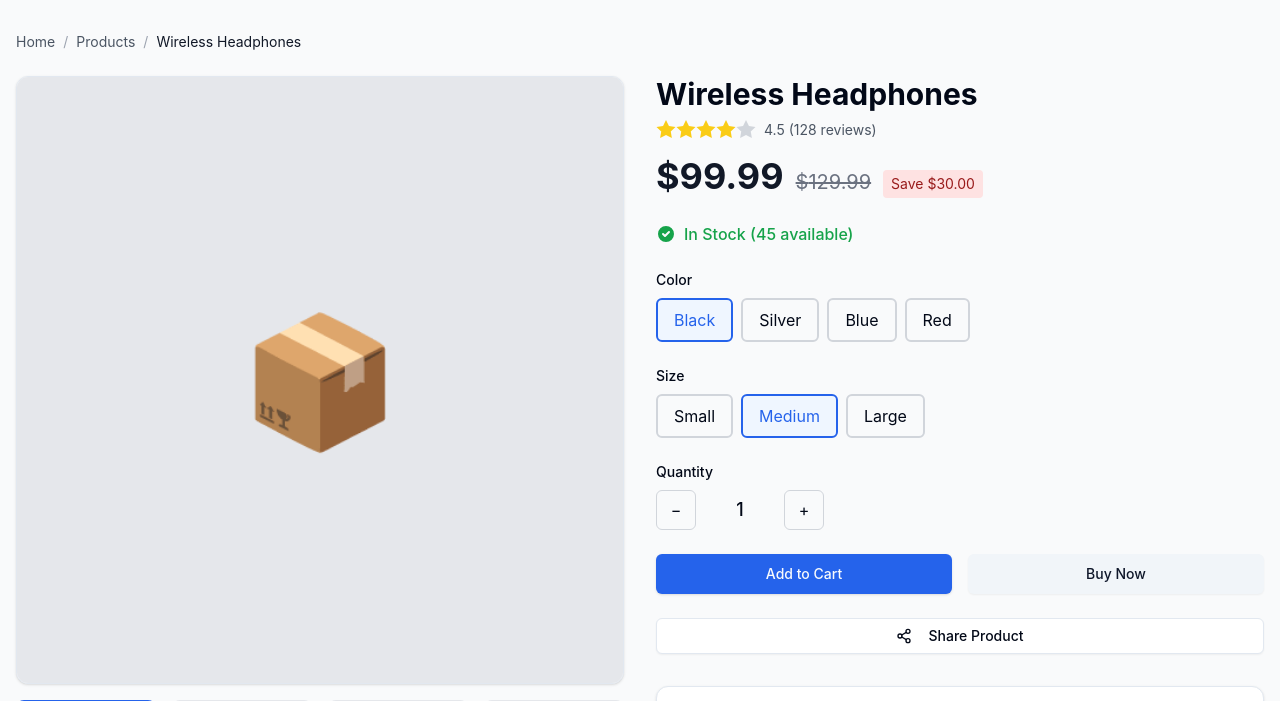
Test: ProductDetailPage - Share Functionality › should show share menu when share button is clicked
The width and height of the screenshot is (1280, 701).
Click the button with test id "share-button". click: (960, 636)
box: [656,618,1264,654]
(page scrolled)
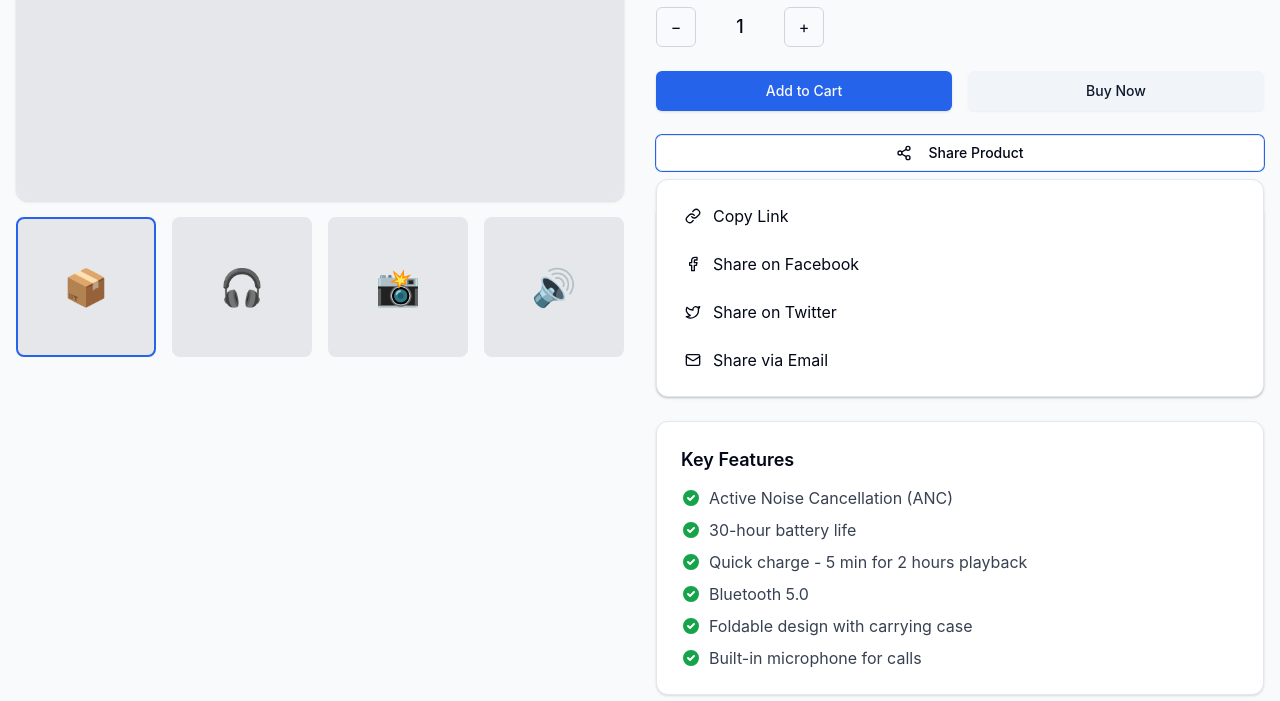
Check: the element with test id "share-menu" is shown, box [656,179,1264,397]
Check: the button with test id "copy-link-button" is shown, box [673,196,1247,236]
Check: the button with test id "facebook-share-button" is shown, box [673,244,1247,284]
